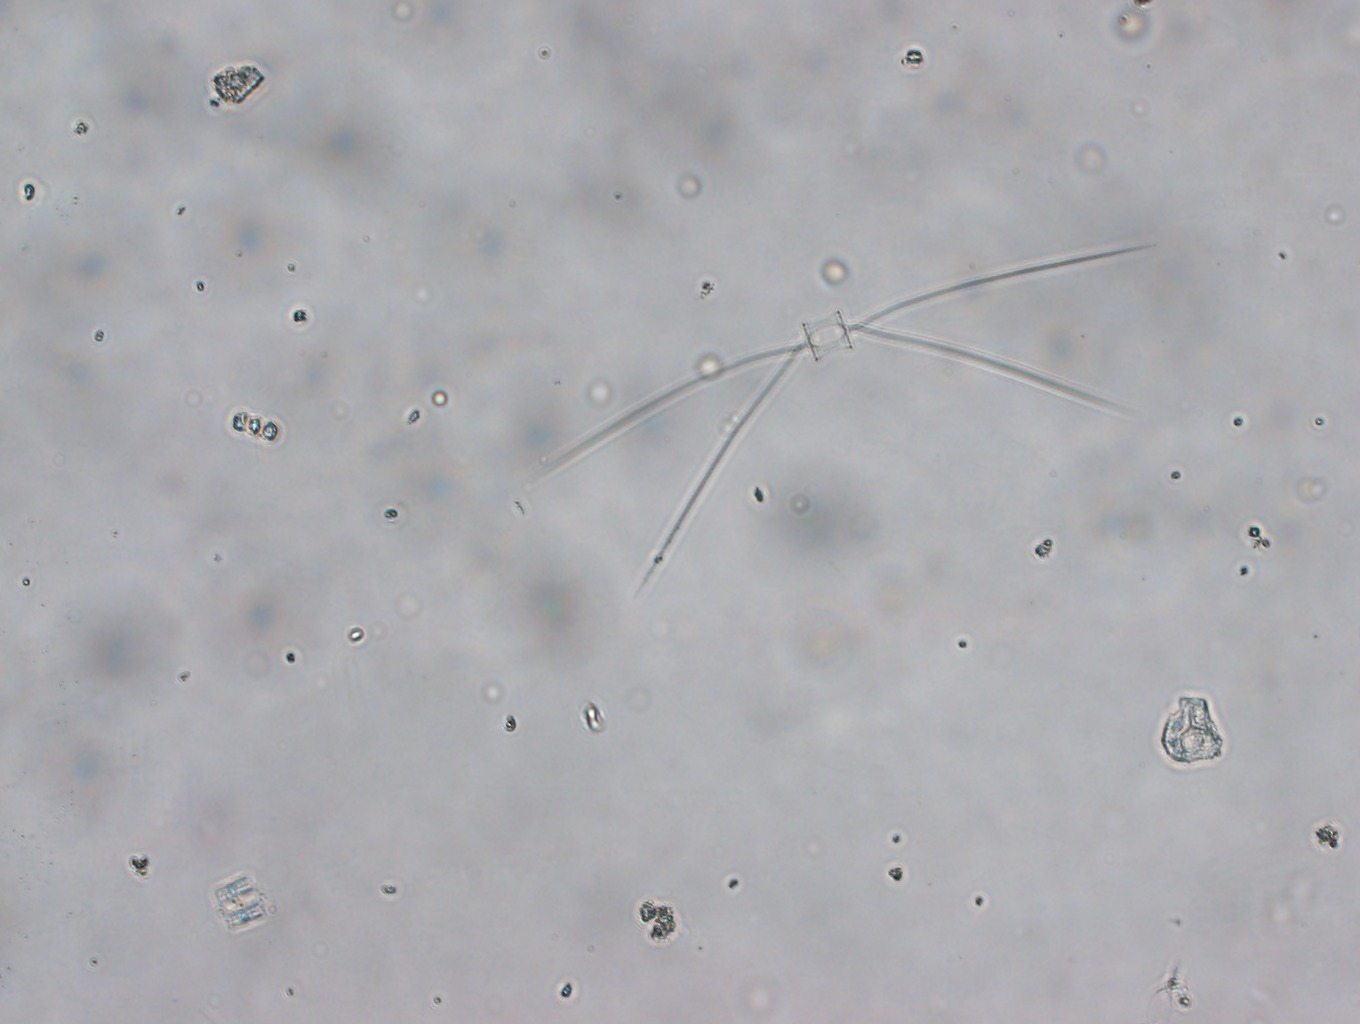chaetoceros: (533, 246, 1142, 591)
